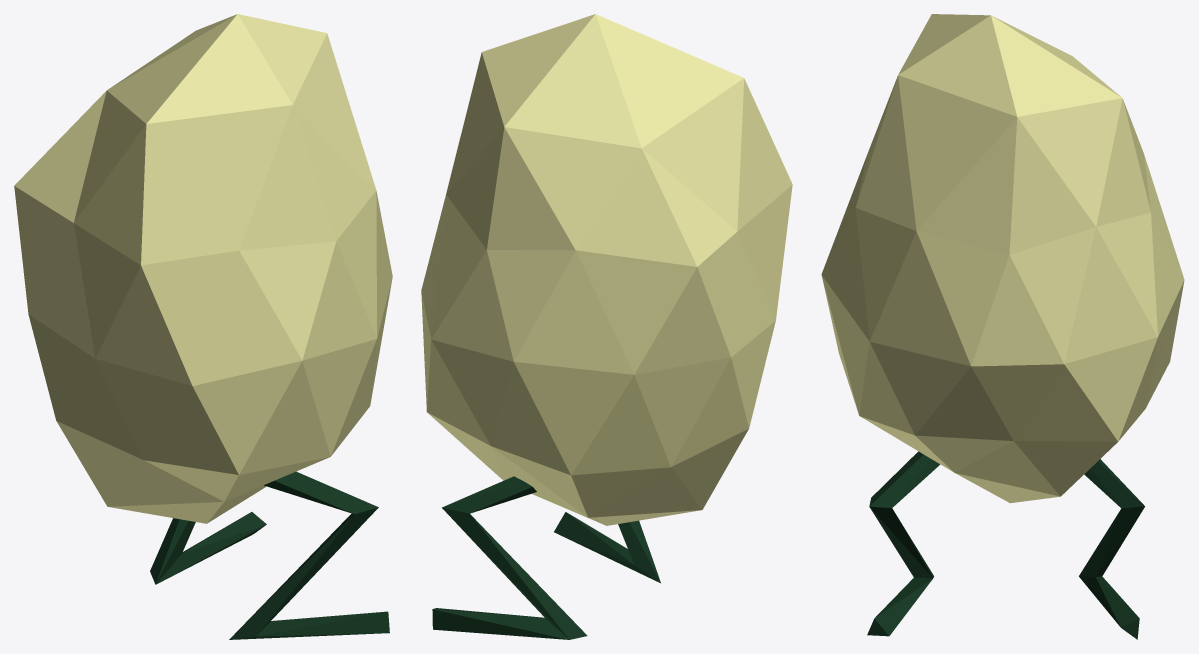
Rendered from egg.fbx.
The picture shows the model from 3 angles, left to right: view 1: azimuth 30°, elevation 25°; view 2: azimuth 150°, elevation 25°; view 3: azimuth 270°, elevation 25°; orthographic projection. The views are drawn at different scales.
Parts seen in each view (by area): view 1: egg, legs; view 2: egg, legs; view 3: egg, legs.
Part boxes in pixels (x1=…): egg: x1=14, y1=14, x2=392, y2=523; legs: x1=150, y1=471, x2=389, y2=639; egg: x1=421, y1=14, x2=792, y2=525; legs: x1=432, y1=476, x2=660, y2=639; egg: x1=821, y1=14, x2=1184, y2=503; legs: x1=867, y1=451, x2=1144, y2=639.
Bounding box in the file's own units: 847 × 1516 × 858.
